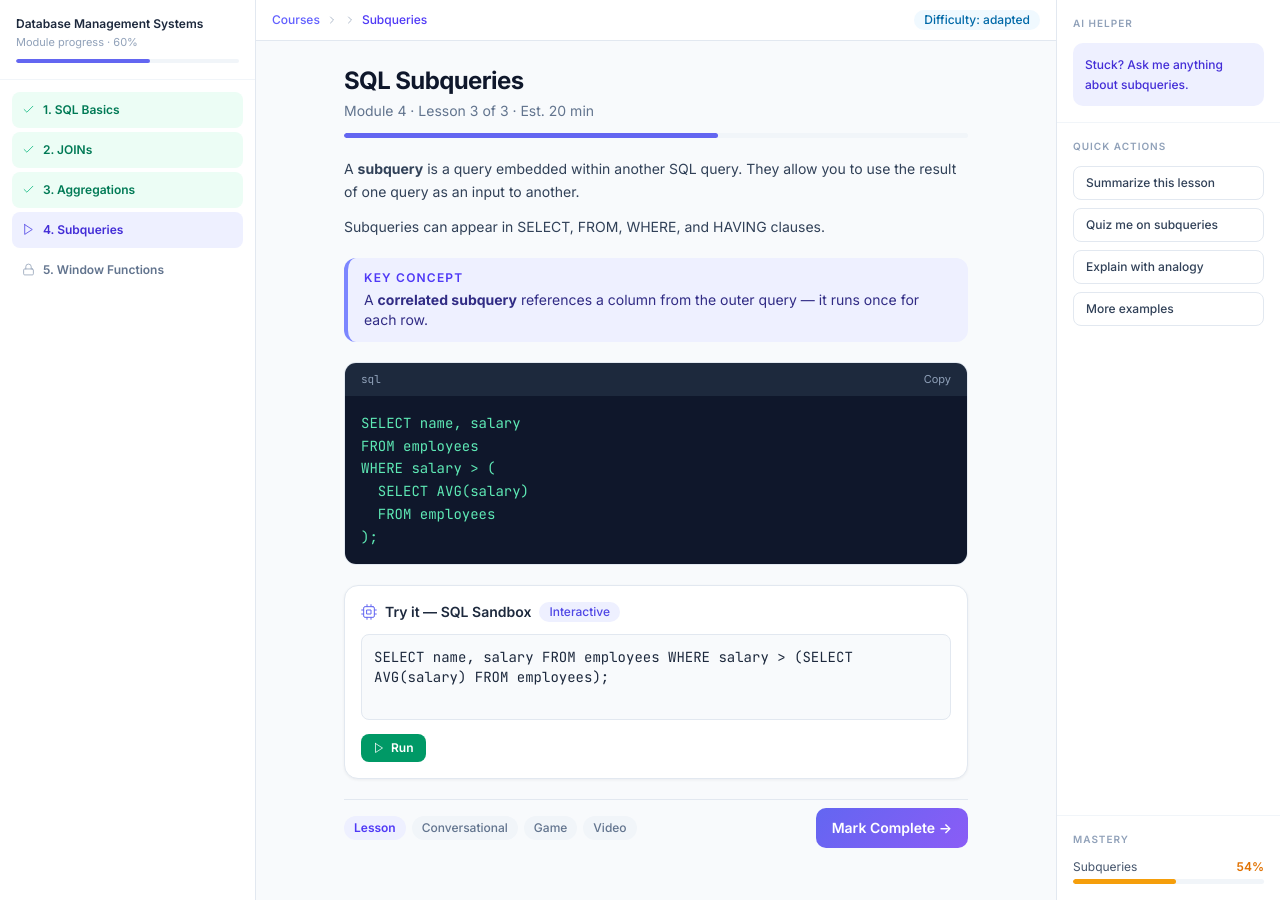
it: Student Screens & Interactive Navigation Test Suite › Course Catalog & Course Player › CoursePlayer executes SQL query in sandbox and toggles complete
This screenshot has width=1280, height=900.
Check: the heading "SQL Subqueries" is shown, box [344,66,524,95]
Check: the text "Try it — SQL Sandbox" is shown, box [385,602,531,622]
Click the button "Run" at [393, 748], box [361,734,426,762]
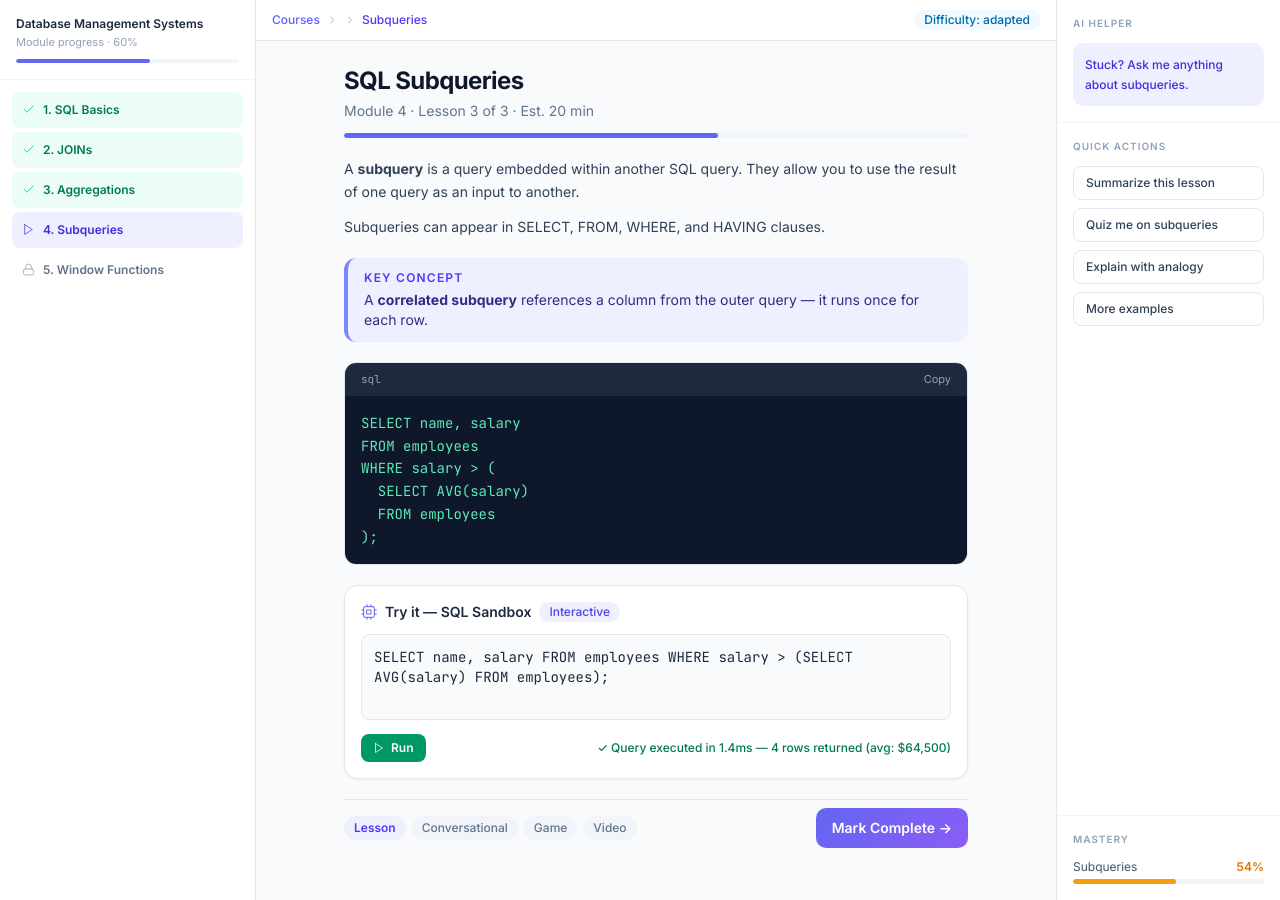
Check: the text "✓ Query executed in 1.4ms — 4 rows returned (avg: $64,500)" is shown, box [597,740,951,756]
Click the button "Mark Complete →" at [892, 828], box [816,808,968,848]
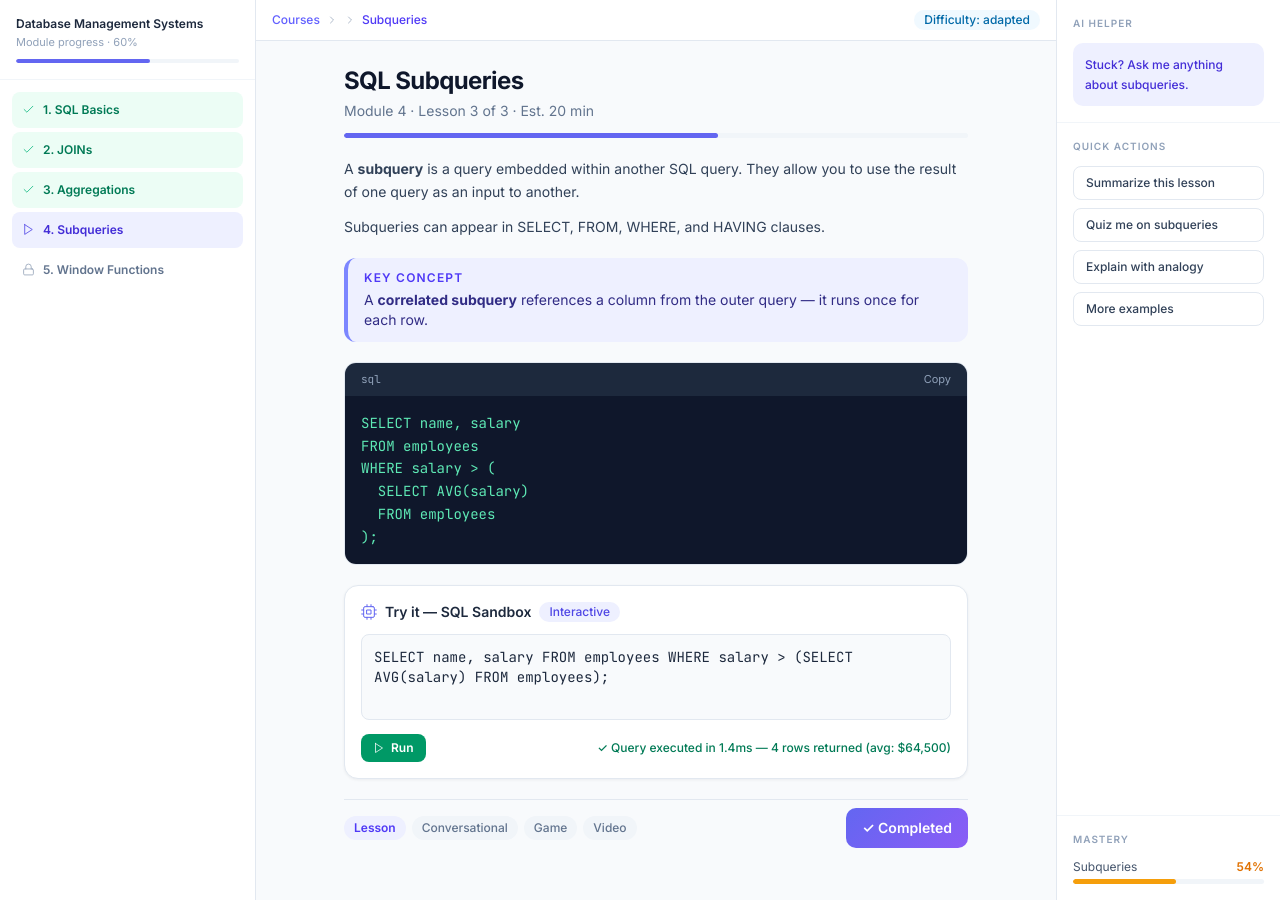
Check: the button "✓ Completed" is shown, box [846,808,968,848]
